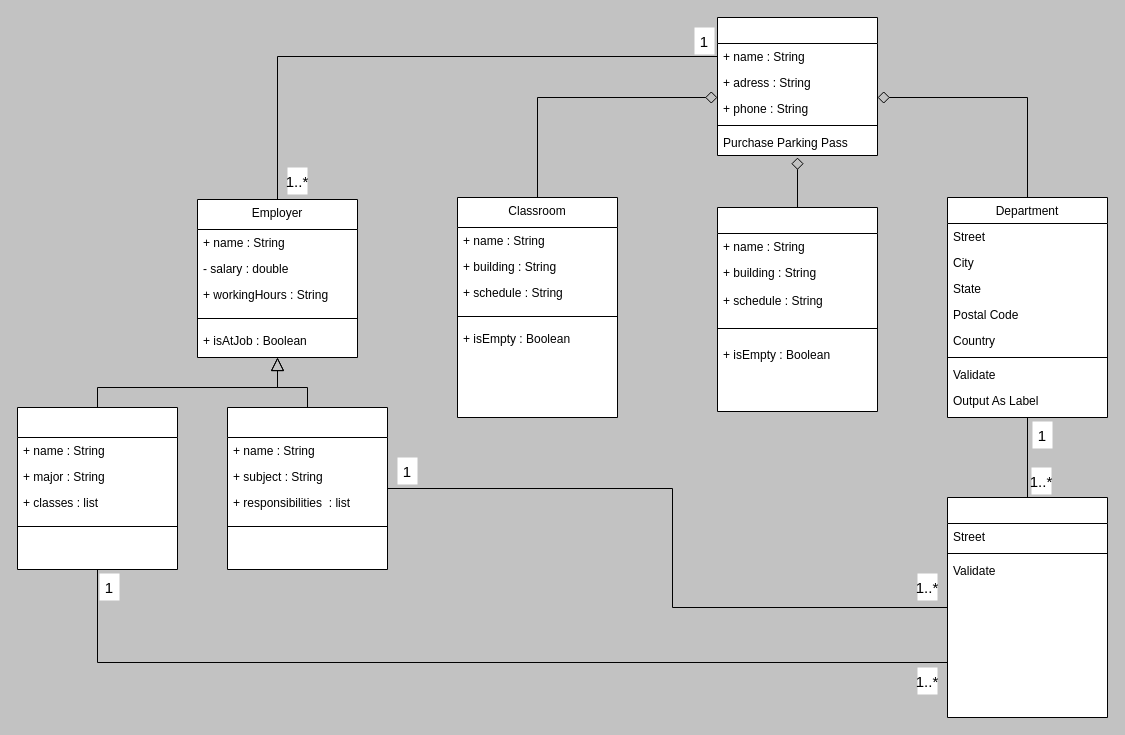
Image size: 1125x735. Some labels were removed from this diagram. Here are the shapes that lost their labels. From the top down, the box of each, then its label:
(716, 16, 878, 156): University
(716, 206, 878, 412): Workroom
(16, 406, 178, 570): Professor
(226, 406, 388, 570): Officer
(946, 496, 1108, 718): Office
